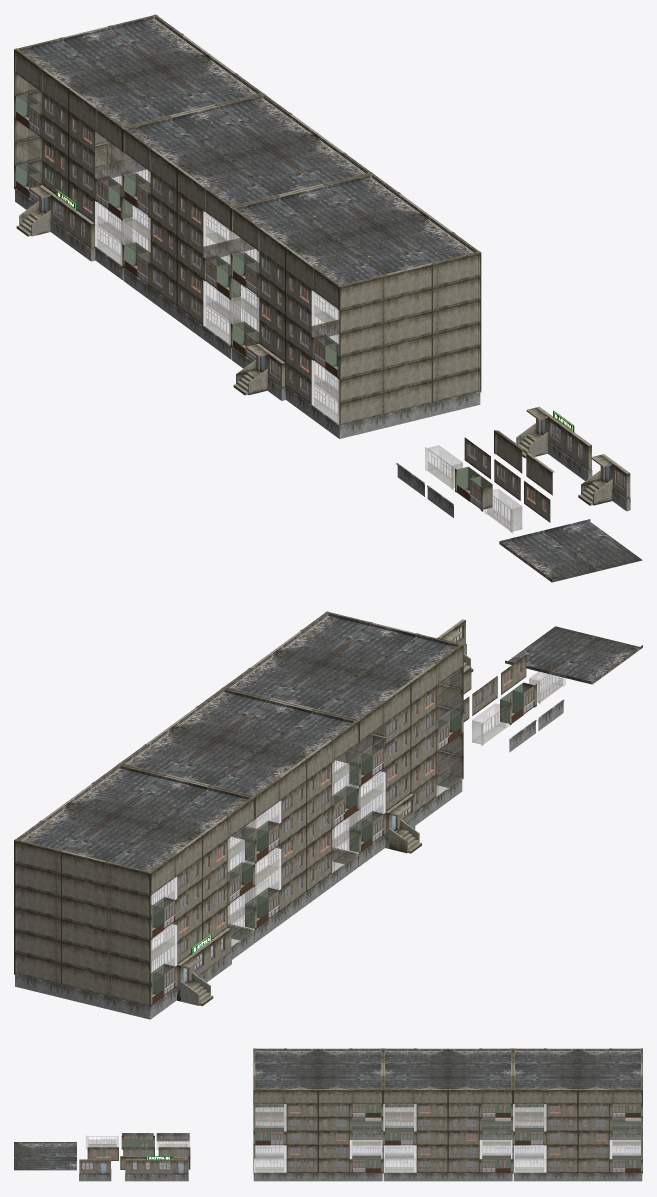
Rendered from apartment_block.glb.
3 renders of one model, top to bottom at view 1: azimuth 30°, elevation 25°; view 2: azimuth 150°, elevation 25°; view 3: azimuth 270°, elevation 25°, orthographic. The views are drawn at different scales.
Visible parts, largest first — view 1: Box017, Box015, Object199_Roof_01_0, Object059_Roof_01_0, Object135_Roof_01_0, Object021_Roof_01_0, Object167_Roof_01_0, Object083_Roof_01_0, Object103_Roof_01_0, Object085_Roof_01_0, Object202_Roof_01_0, Object064_Roof_01_0 (+45 smaller); view 2: Box017, Object064_Roof_01_0, Object202_Roof_01_0, Object138_Roof_01_0, Object107_Roof_01_0, Object171_Roof_01_0, Object027_Roof_01_0, Object059_Roof_01_0, Object199_Roof_01_0, Object135_Roof_01_0, Object083_Roof_01_0, Object025_Roof_01_0 (+101 smaller); view 3: Box015, Object017_Roof_01_0, Object025_Roof_01_0, Object101_Roof_01_0, Object105_Roof_01_0, Object165_Roof_01_0, Object169_Roof_01_0, Object083_Roof_01_0, Object021_Roof_01_0, Object027_Roof_01_0, Object085_Roof_01_0, Object103_Roof_01_0 (+108 smaller).
Part boxes in pixels (x1,y1,x2,y2): Box017: [16, 185, 95, 261]; Box015: [516, 406, 592, 480]; Object199_Roof_01_0: [109, 16, 207, 68]; Object059_Roof_01_0: [326, 175, 424, 227]; Object135_Roof_01_0: [218, 95, 315, 147]; Object021_Roof_01_0: [280, 186, 378, 238]; Object167_Roof_01_0: [64, 27, 161, 79]; Object083_Roof_01_0: [499, 530, 596, 582]; Object103_Roof_01_0: [172, 107, 269, 158]; Object085_Roof_01_0: [545, 519, 642, 571]; Object202_Roof_01_0: [162, 55, 259, 104]; Object064_Roof_01_0: [379, 213, 476, 263]; Box017: [177, 928, 231, 1006]; Object064_Roof_01_0: [277, 613, 371, 663]; Object202_Roof_01_0: [68, 765, 163, 815]; Object138_Roof_01_0: [173, 689, 267, 739]; Object107_Roof_01_0: [217, 700, 311, 750]; Object171_Roof_01_0: [113, 776, 206, 826]; Object027_Roof_01_0: [321, 624, 415, 673]; Object059_Roof_01_0: [227, 650, 320, 698]; Object199_Roof_01_0: [18, 803, 112, 850]; Object135_Roof_01_0: [123, 726, 216, 774]; Object083_Roof_01_0: [548, 637, 642, 684]; Object025_Roof_01_0: [365, 634, 458, 683]; Box015: [125, 1156, 188, 1181]; Object017_Roof_01_0: [318, 1049, 381, 1064]; Object025_Roof_01_0: [255, 1049, 318, 1064]; Object101_Roof_01_0: [448, 1049, 510, 1064]; Object105_Roof_01_0: [385, 1049, 447, 1064]; Object165_Roof_01_0: [578, 1049, 640, 1064]; Object169_Roof_01_0: [515, 1049, 577, 1064]; Object083_Roof_01_0: [14, 1142, 76, 1156]; Object021_Roof_01_0: [318, 1064, 381, 1077]; Object027_Roof_01_0: [255, 1064, 318, 1077]; Object085_Roof_01_0: [14, 1157, 76, 1170]; Object103_Roof_01_0: [448, 1064, 510, 1077].
Size of the model in its own units: 17.67 by 15 by 93.6.
11 materials, 11 textured.
